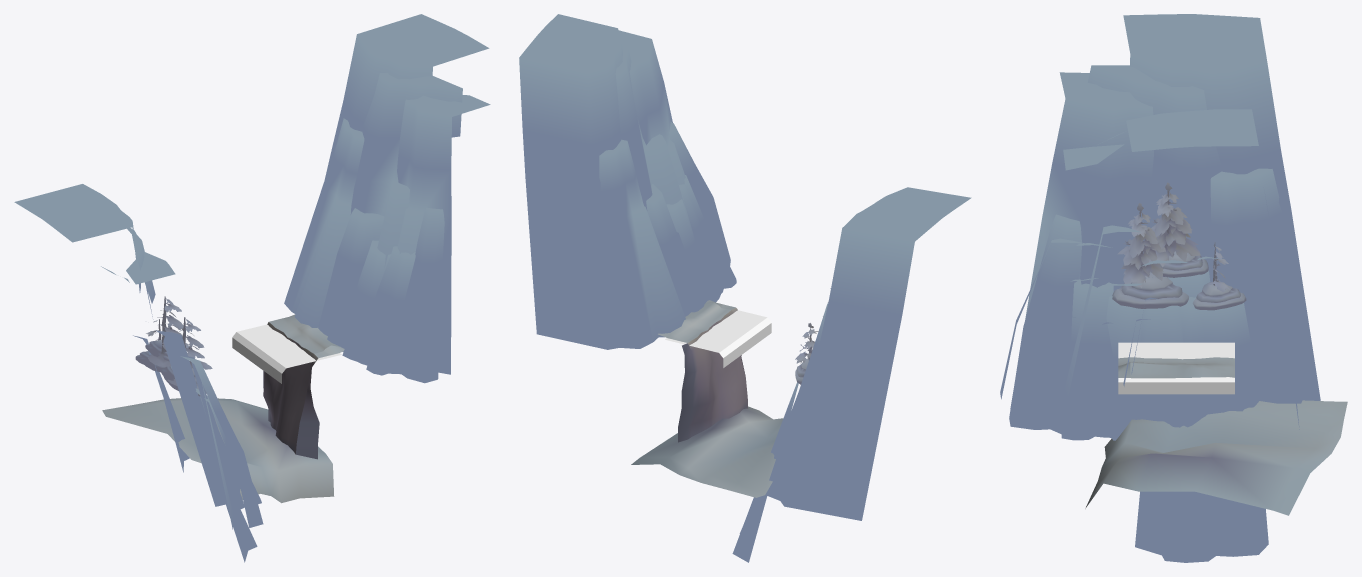
Rendered from Arctic_Narrows_Left_Straight_Short_A.glb.
3 views of the same model, side by side, from view 1: azimuth 30°, elevation 25°; view 2: azimuth 150°, elevation 25°; view 3: azimuth 270°, elevation 25° (orthographic). The views are drawn at different scales.
Parts seen in each view (by area): view 1: Arctic_Narrows_Left_Straight_Short_A, inv_fill; view 2: Arctic_Narrows_Left_Straight_Short_A, inv_fill; view 3: Arctic_Narrows_Left_Straight_Short_A, inv_fill.
Boxes of the visible parts, x1,y1,x2,y2 form: Arctic_Narrows_Left_Straight_Short_A: (14, 14, 490, 562); inv_fill: (232, 324, 341, 383); Arctic_Narrows_Left_Straight_Short_A: (519, 14, 971, 562); inv_fill: (665, 310, 771, 367); Arctic_Narrows_Left_Straight_Short_A: (1000, 14, 1347, 562); inv_fill: (1118, 342, 1234, 394).
Size of what is drawn, in the model's own units: 24.39 by 25.46 by 14.89.
